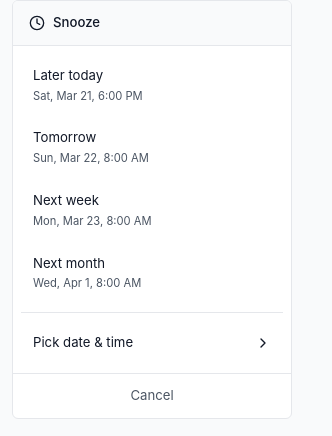
Scenario: DateTimePicker - custom form view (lines 66-91) › shows custom date and time inputs after clicking "Pick date & time"
The width and height of the screenshot is (332, 436).
Click the button "Pick date & time".
click(83, 342)  # box [21,321,283,365]
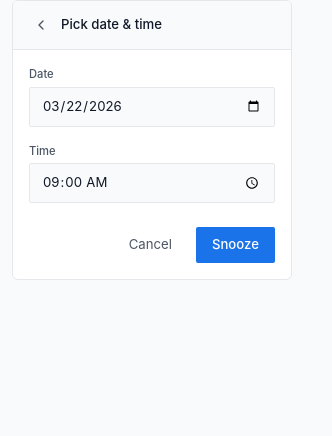
Now the date field is shown, box [29,87,275,127]
Now the time field is shown, box [29,163,275,203]
Now the text "Pick date & time" is shown, box [61,15,162,35]
